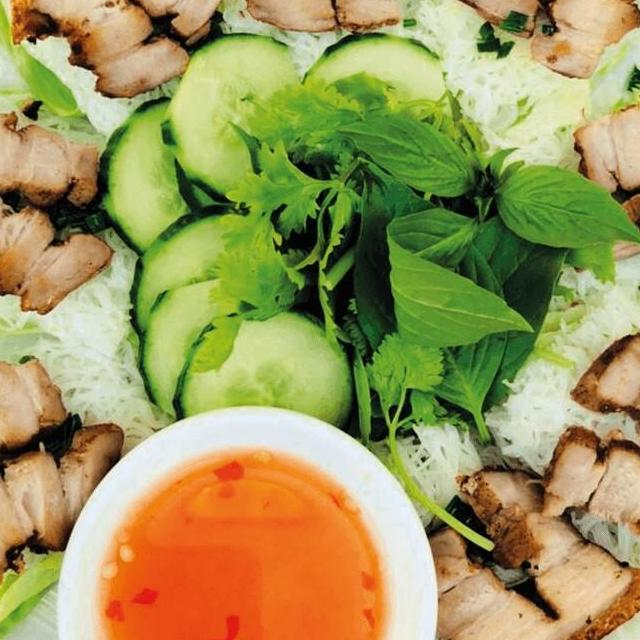banh hoi: (362, 411, 640, 640), (474, 279, 640, 640), (0, 322, 189, 618), (0, 37, 159, 364), (395, 0, 640, 189), (0, 0, 240, 154), (524, 60, 640, 330), (204, 0, 438, 90)
banh hoi heo quay: (0, 0, 640, 640)
thit heo quay: (406, 459, 640, 640), (0, 351, 134, 615), (0, 82, 121, 320), (531, 323, 640, 575), (0, 0, 226, 109), (449, 0, 640, 84), (565, 74, 640, 286), (218, 0, 431, 43)
